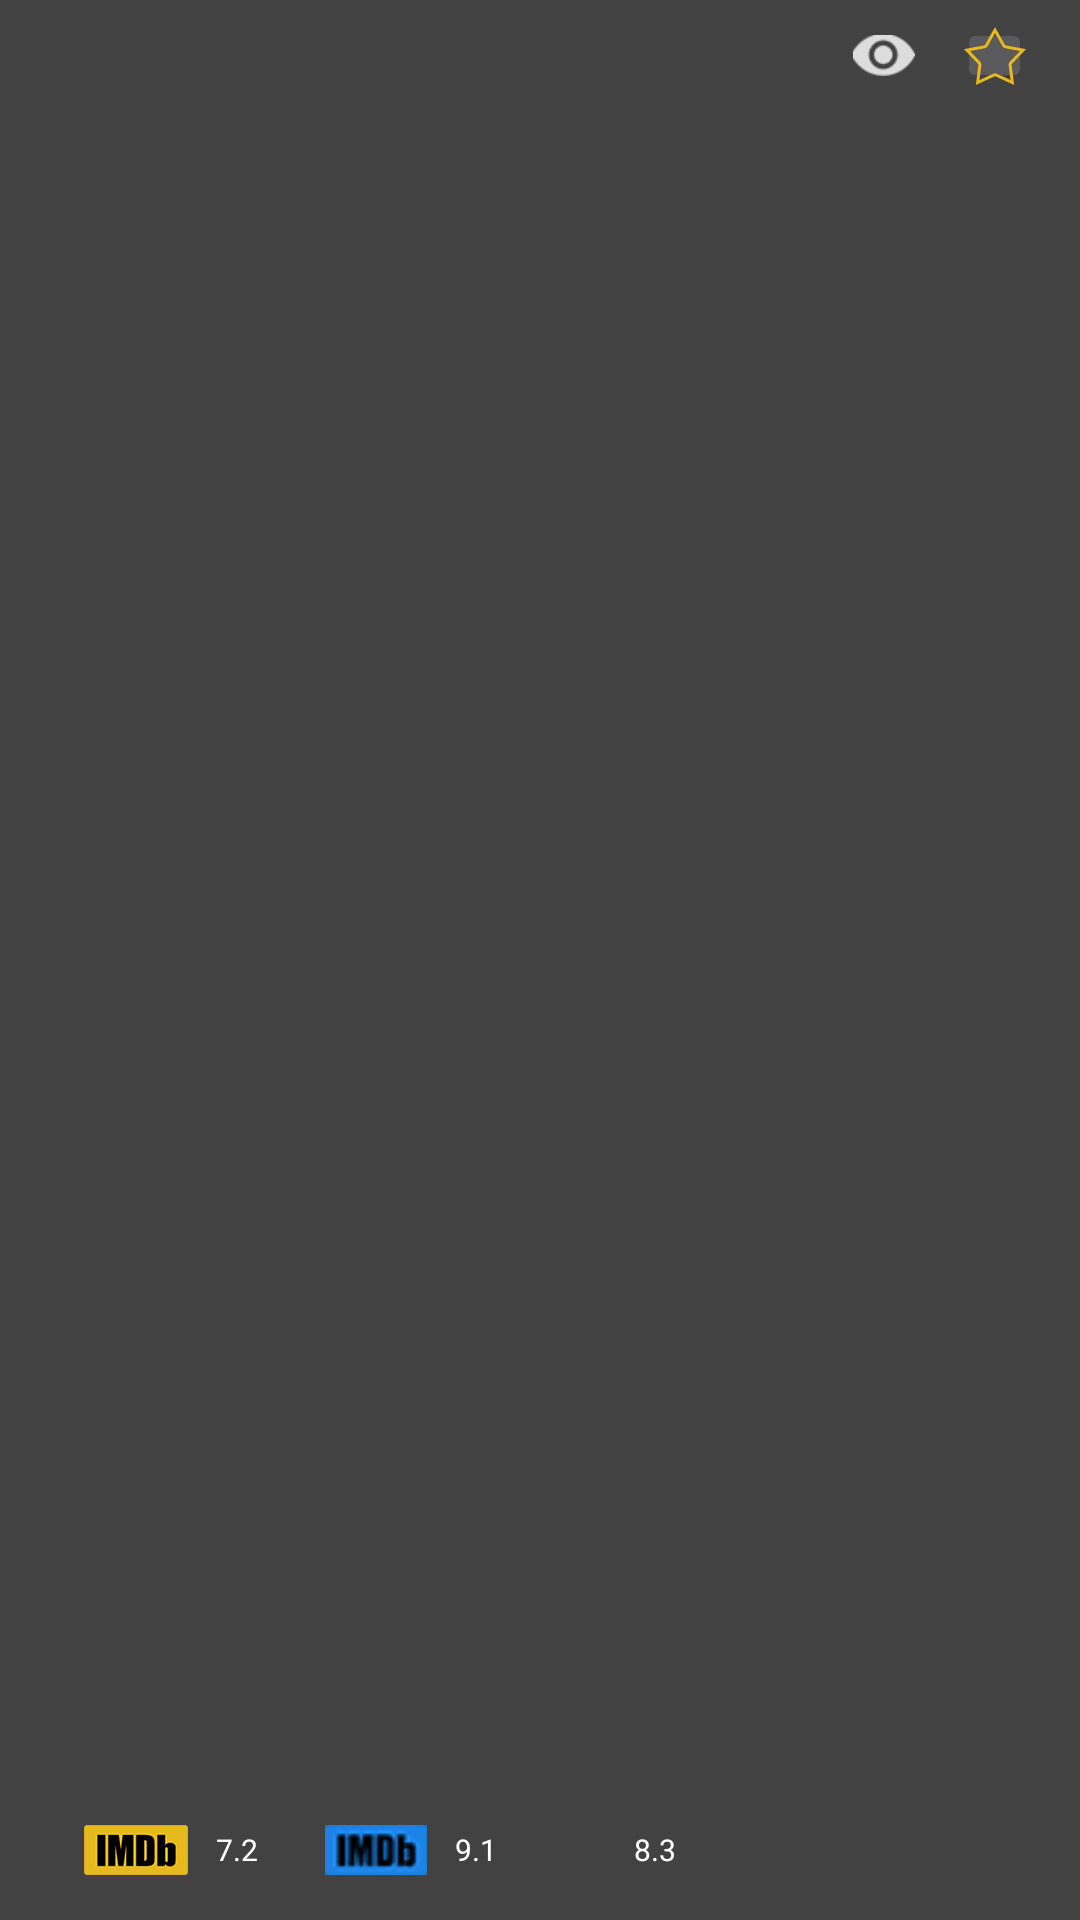

Icon click points for this 1080 × 1920 phone screenshot, format (x=x, y=y):
eye: (x=884, y=55)
star: (x=995, y=56)
